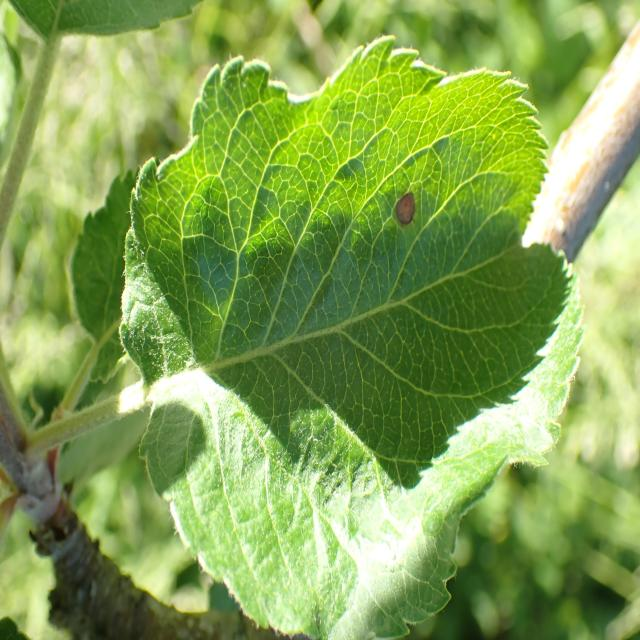Black Rot: (380, 177, 432, 230)
